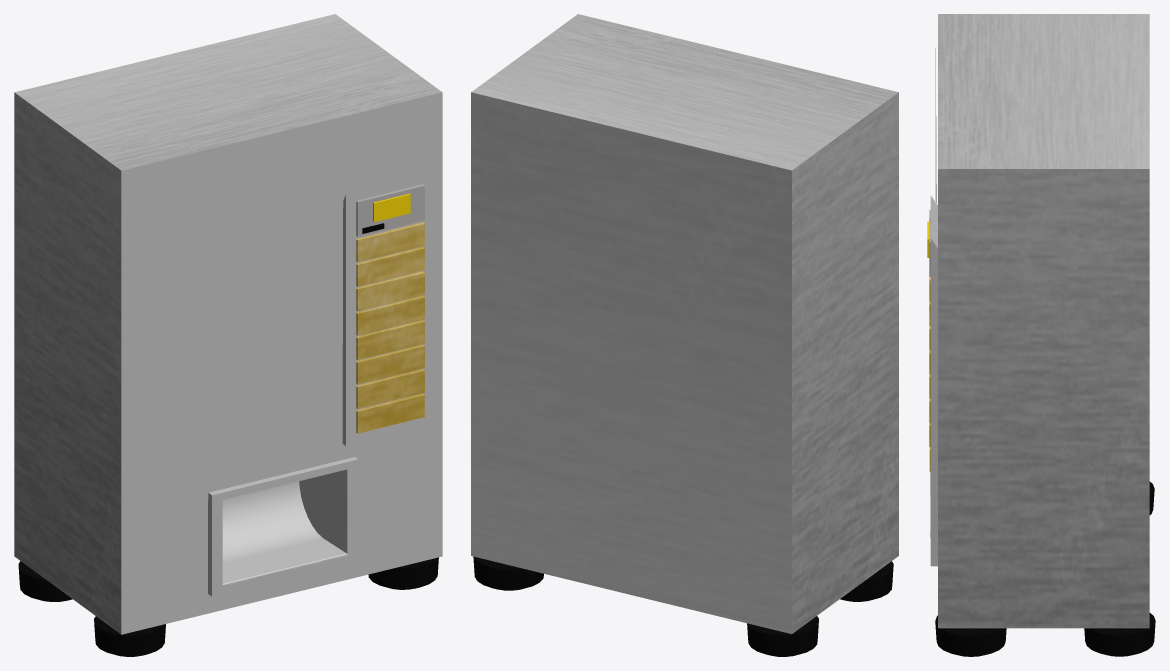
Rendered from CafeteraMachine.obj.
3 renders of one model, left to right at view 1: azimuth 30°, elevation 25°; view 2: azimuth 150°, elevation 25°; view 3: azimuth 270°, elevation 25°, orthographic.
Parts seen in each view (by area): view 1: pCube2, pPlane1, Cafe:pasted__pCube3group5 polySurface15, polySurface1 Cafe:pasted__pCube3group5, Cafe:pasted__pCube3group5 polySurface10, Cafe:pasted__pCube3group5 polySurface19, Cafe:pasted__pCube3group5 polySurface17, Cafe:pasted__pCube3group5 polySurface5, Cafe:pasted__pCube3group5 polySurface4, Cafe:pasted__pCube3group5 polySurface8, Cafe:pasted__pCube3group5 polySurface11, Cafe:pasted__pCube3group5 polySurface12 (+7 smaller); view 2: pCube2, Cafe:pasted__pCube3group5 polySurface9, Cafe:pasted__pCube3group5 polySurface7, Cafe:pasted__pCube3group5 polySurface19; view 3: pCube2, polySurface1 Cafe:pasted__pCube3group5, Cafe:pasted__pCube3group5 polySurface7, Cafe:pasted__pCube3group5 polySurface3, Cafe:pasted__pCube3group5 polySurface10.
Part boxes in pixels (x1,y1,x2,y2): pCube2: (14,14,442,634); pPlane1: (123,100,441,521); Cafe:pasted__pCube3group5 polySurface15: (222,469,347,585); polySurface1 Cafe:pasted__pCube3group5: (342,173,435,445); Cafe:pasted__pCube3group5 polySurface10: (208,457,358,596); Cafe:pasted__pCube3group5 polySurface19: (94,616,165,656); Cafe:pasted__pCube3group5 polySurface17: (356,184,424,236); Cafe:pasted__pCube3group5 polySurface5: (356,222,424,262); Cafe:pasted__pCube3group5 polySurface4: (356,393,424,433); Cafe:pasted__pCube3group5 polySurface8: (356,271,424,311); Cafe:pasted__pCube3group5 polySurface11: (356,247,424,286); Cafe:pasted__pCube3group5 polySurface12: (356,369,424,408); pCube2: (471,14,898,633); Cafe:pasted__pCube3group5 polySurface9: (747,616,818,656); Cafe:pasted__pCube3group5 polySurface7: (473,556,543,590); Cafe:pasted__pCube3group5 polySurface19: (840,561,893,601); pCube2: (938,14,1149,628); polySurface1 Cafe:pasted__pCube3group5: (930,195,937,486); Cafe:pasted__pCube3group5 polySurface7: (1084,613,1155,656); Cafe:pasted__pCube3group5 polySurface3: (935,615,1006,656); Cafe:pasted__pCube3group5 polySurface10: (930,471,937,566).
Size of the model in its own units: 1.96 by 2.75 by 1.17.
